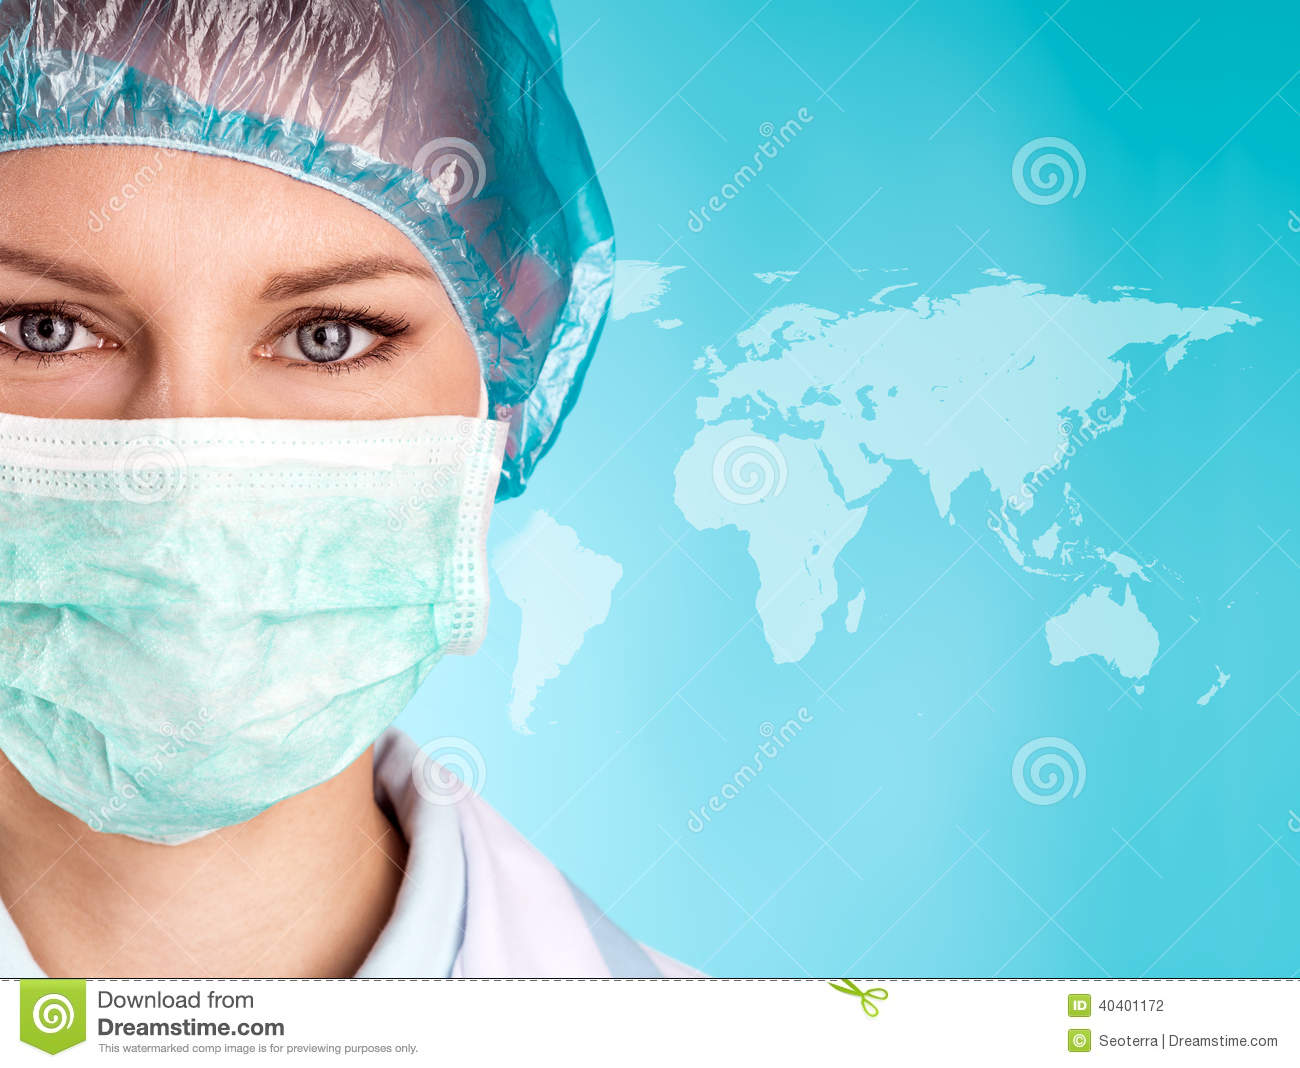mask: (4, 423, 540, 820)
